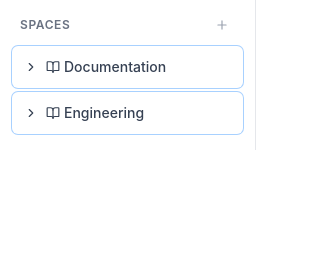
Sidebar component › shows empty state with CTA when space has no pages
The width and height of the screenshot is (320, 267).
Expected: the link "Documentation" is shown, [64,58,166,75]
What coordinates should you click on to do the following:
click the button named "Expand Documentation"
I would click on:
 (31, 67)
Its box is [20,56,42,78].
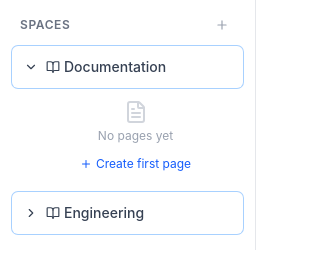
Result: the text "No pages yet" is shown at [98,128,173,143]
Result: the link "Create first page" is shown at [80,156,191,172]
